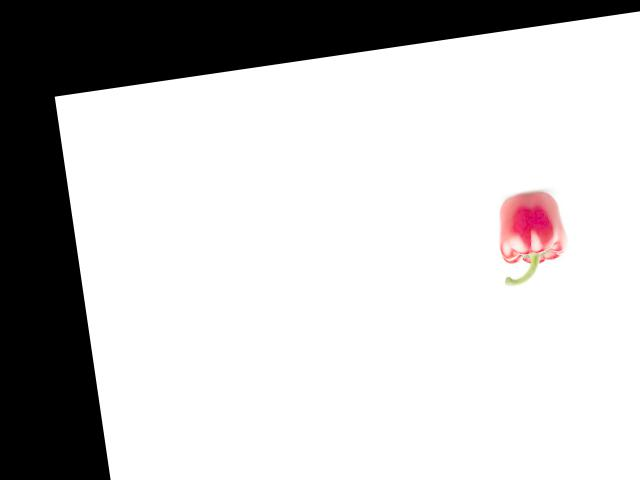bell_pepper: (490, 187, 570, 288)
